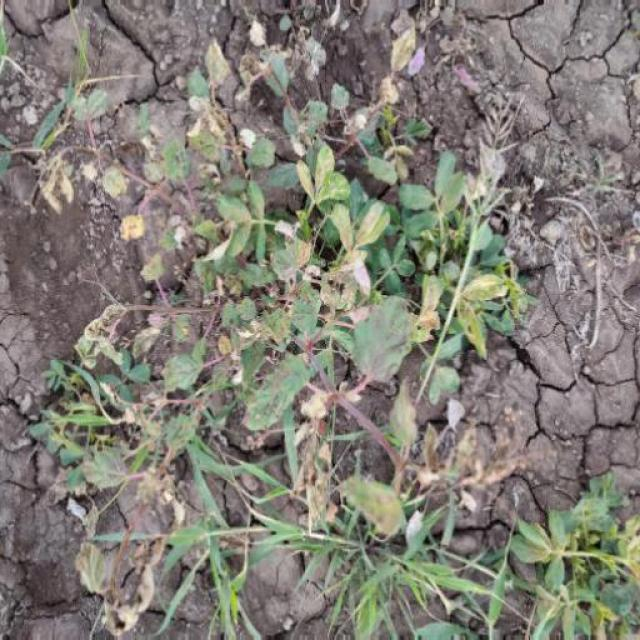weed: (95, 115, 523, 540)
